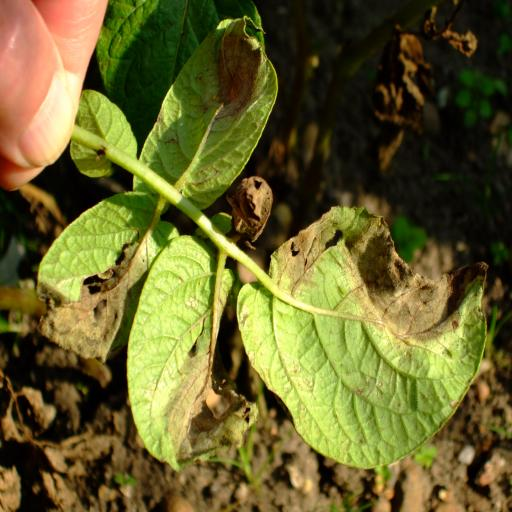Early Blight: (231, 203, 487, 473), (130, 12, 280, 211), (125, 230, 233, 470), (36, 191, 179, 362)
